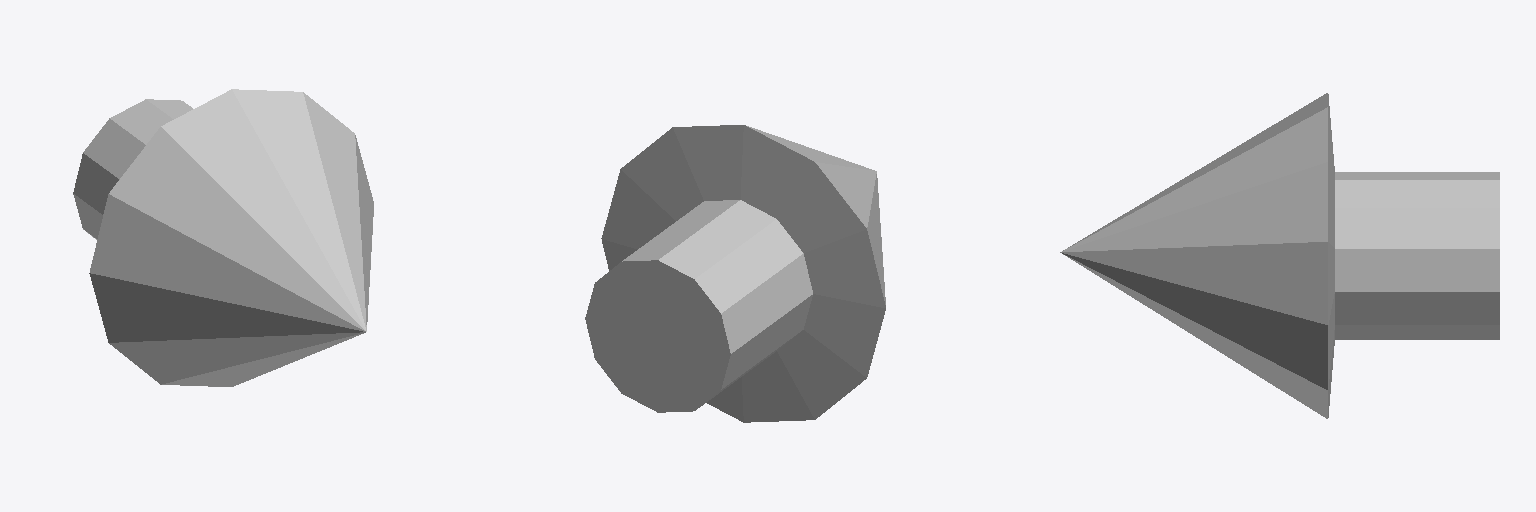
The model's file is arrow.obj.
The picture shows the model from 3 angles: view 1: azimuth 30°, elevation 25°; view 2: azimuth 150°, elevation 25°; view 3: azimuth 270°, elevation 25°; orthographic projection.
Bounding box in the file's own units: 3.91 × 3.91 × 5.23.